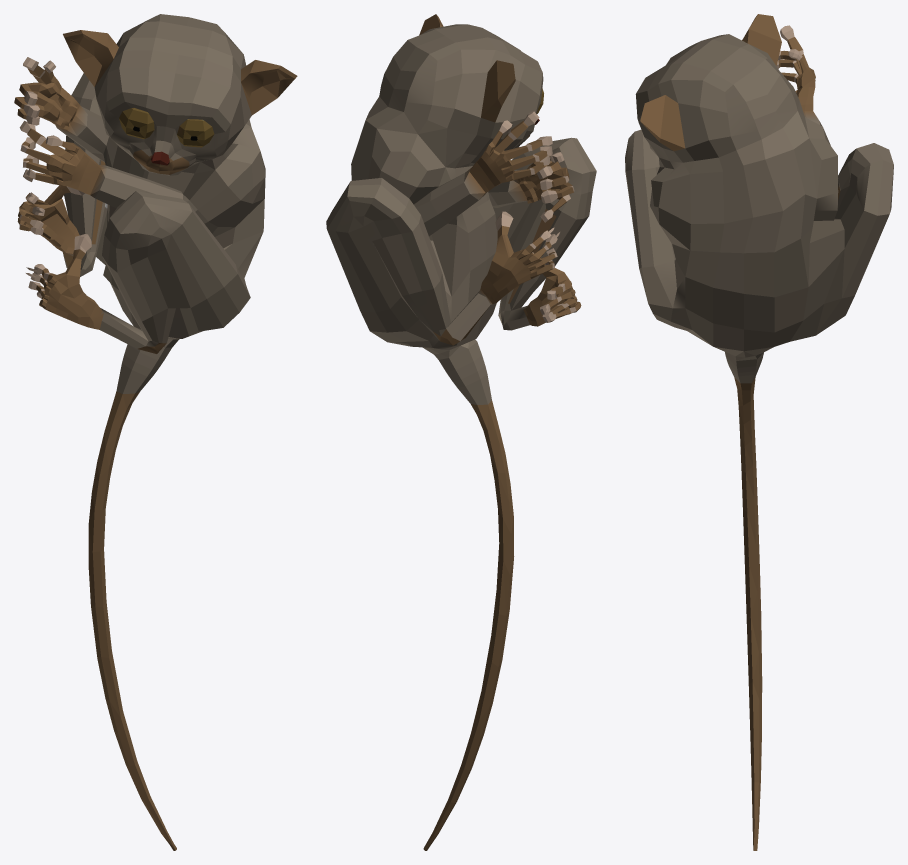
The model's file is tarsier1.fbx.
3 views of the same model, side by side, from view 1: azimuth 30°, elevation 25°; view 2: azimuth 150°, elevation 25°; view 3: azimuth 270°, elevation 25° (orthographic). The views are drawn at different scales.
Parts seen in each view (by area): view 1: Tarsiers; view 2: Tarsiers; view 3: Tarsiers.
Boxes of the visible parts, x1=… form: Tarsiers: x1=14, y1=14, x2=297, y2=850; Tarsiers: x1=326, y1=14, x2=596, y2=850; Tarsiers: x1=625, y1=14, x2=893, y2=850.
Size of the model in its own units: 54.99 by 206 by 63.08.
